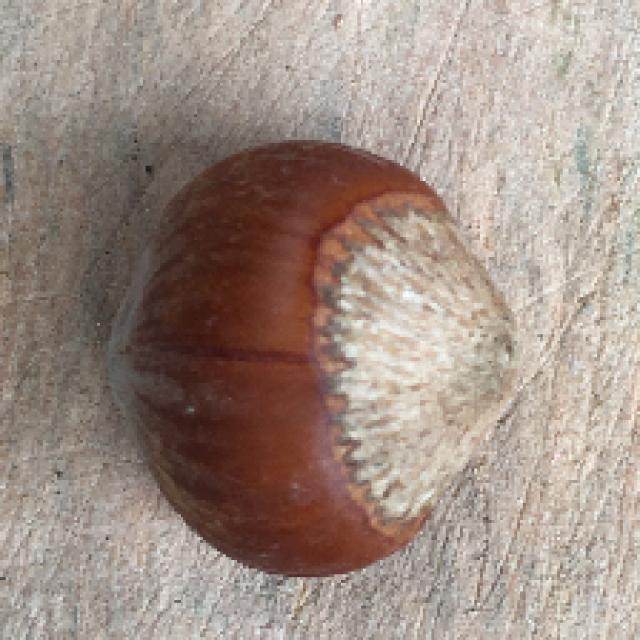qualityHazelnut: (108, 139, 542, 585)
